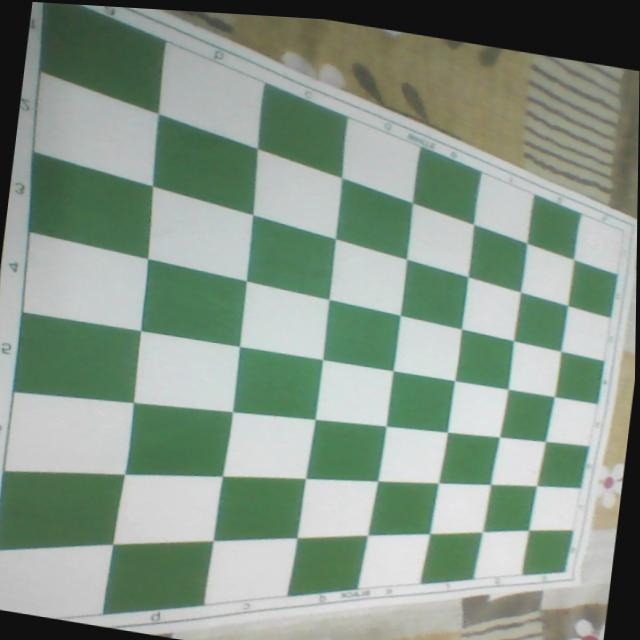square: (23, 69, 168, 185), (28, 2, 176, 112), (20, 150, 161, 257), (0, 380, 136, 487), (0, 454, 125, 568), (8, 309, 144, 411), (16, 229, 153, 330), (153, 40, 271, 146), (107, 460, 227, 563), (147, 111, 266, 213), (100, 527, 215, 630), (0, 525, 116, 627), (121, 394, 236, 489), (141, 184, 257, 278), (129, 330, 243, 418), (138, 257, 250, 346), (253, 81, 356, 176), (203, 525, 301, 615), (247, 148, 347, 236), (213, 466, 309, 556), (242, 213, 342, 299), (219, 405, 319, 490), (230, 342, 326, 425), (334, 114, 427, 199), (237, 278, 333, 358), (292, 468, 384, 551), (331, 176, 417, 257), (323, 235, 412, 313), (287, 527, 371, 607), (306, 412, 389, 489), (319, 295, 403, 371), (351, 522, 433, 599), (313, 357, 398, 430), (410, 146, 485, 222), (374, 419, 453, 491), (367, 472, 441, 546), (398, 257, 472, 328), (391, 312, 466, 382), (385, 368, 458, 437), (423, 473, 494, 543), (406, 202, 473, 275), (454, 272, 525, 339), (464, 222, 531, 289), (434, 427, 502, 493), (443, 378, 512, 442), (419, 525, 484, 592), (473, 171, 533, 242), (452, 325, 517, 389), (486, 428, 549, 492), (523, 193, 584, 258), (504, 339, 564, 397), (520, 242, 575, 305), (512, 291, 570, 349), (482, 478, 538, 538), (523, 522, 577, 584), (498, 387, 556, 444), (537, 438, 592, 494), (567, 259, 621, 316), (574, 213, 622, 273), (560, 304, 610, 360), (556, 350, 607, 404), (474, 529, 528, 578), (546, 396, 597, 445), (528, 485, 579, 529)
